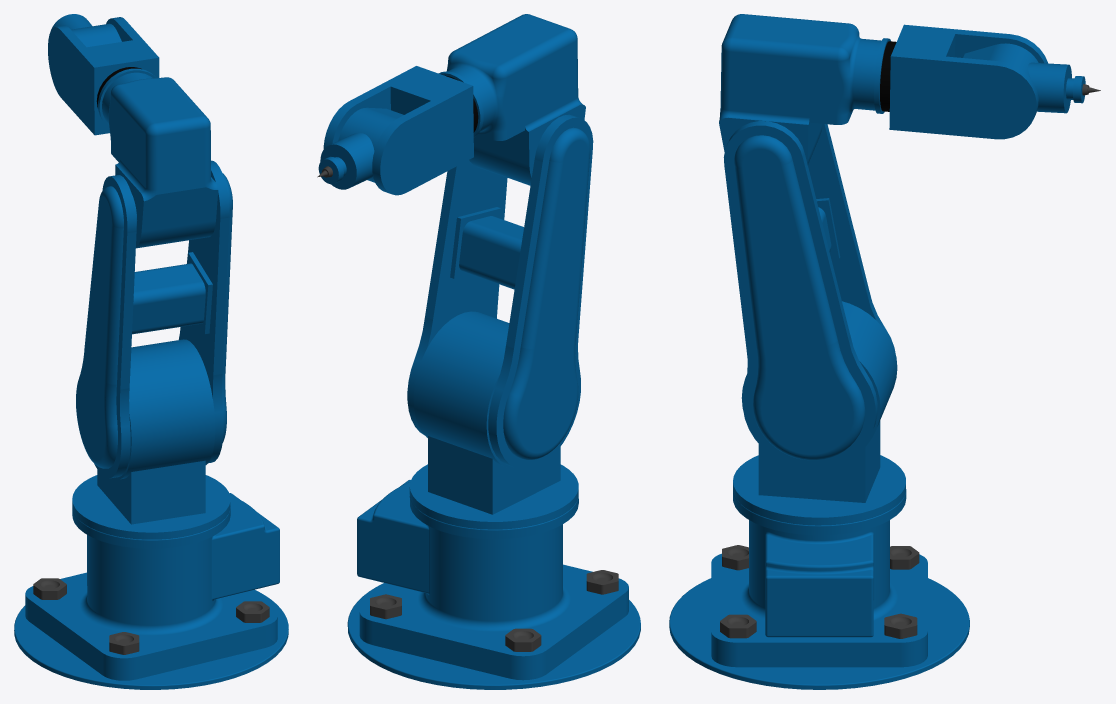
Rendered from YASKAWA_ROBOTIC_ARM.glb.
3 views of the same model, side by side, from view 1: azimuth 30°, elevation 25°; view 2: azimuth 150°, elevation 25°; view 3: azimuth 270°, elevation 25° (orthographic). The views are drawn at different scales.
Visible parts, largest first — view 1: BASE-1, LINK 2-1, LINK 3-1, LINK 1-1, LINK 4-1; view 2: BASE-1, LINK 2-1, LINK 3-1, LINK 1-1, LINK 4-1; view 3: LINK 2-1, BASE-1, LINK 3-1, LINK 1-1, LINK 4-1.
Boxes of the visible parts, bbox=[...] form: BASE-1: bbox=[14, 493, 288, 689]; LINK 2-1: bbox=[76, 160, 232, 478]; LINK 3-1: bbox=[48, 17, 218, 248]; LINK 1-1: bbox=[72, 339, 230, 539]; LINK 4-1: bbox=[51, 14, 121, 47]; BASE-1: bbox=[347, 480, 640, 689]; LINK 2-1: bbox=[407, 114, 593, 469]; LINK 3-1: bbox=[323, 14, 585, 195]; LINK 1-1: bbox=[409, 311, 578, 529]; LINK 4-1: bbox=[317, 107, 403, 189]; LINK 2-1: bbox=[723, 121, 895, 469]; BASE-1: bbox=[669, 489, 969, 689]; LINK 3-1: bbox=[719, 14, 1048, 164]; LINK 1-1: bbox=[733, 301, 905, 525]; LINK 4-1: bbox=[963, 43, 1100, 113].
Bounding box in the file's own units: 0.555 × 1.21 × 0.7982.
